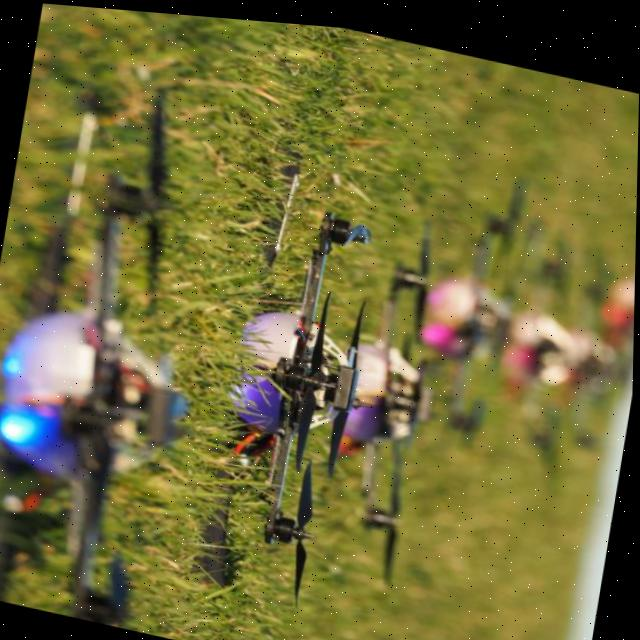drones: (0, 116, 254, 640), (175, 145, 394, 599), (465, 172, 638, 457), (332, 256, 478, 584)
